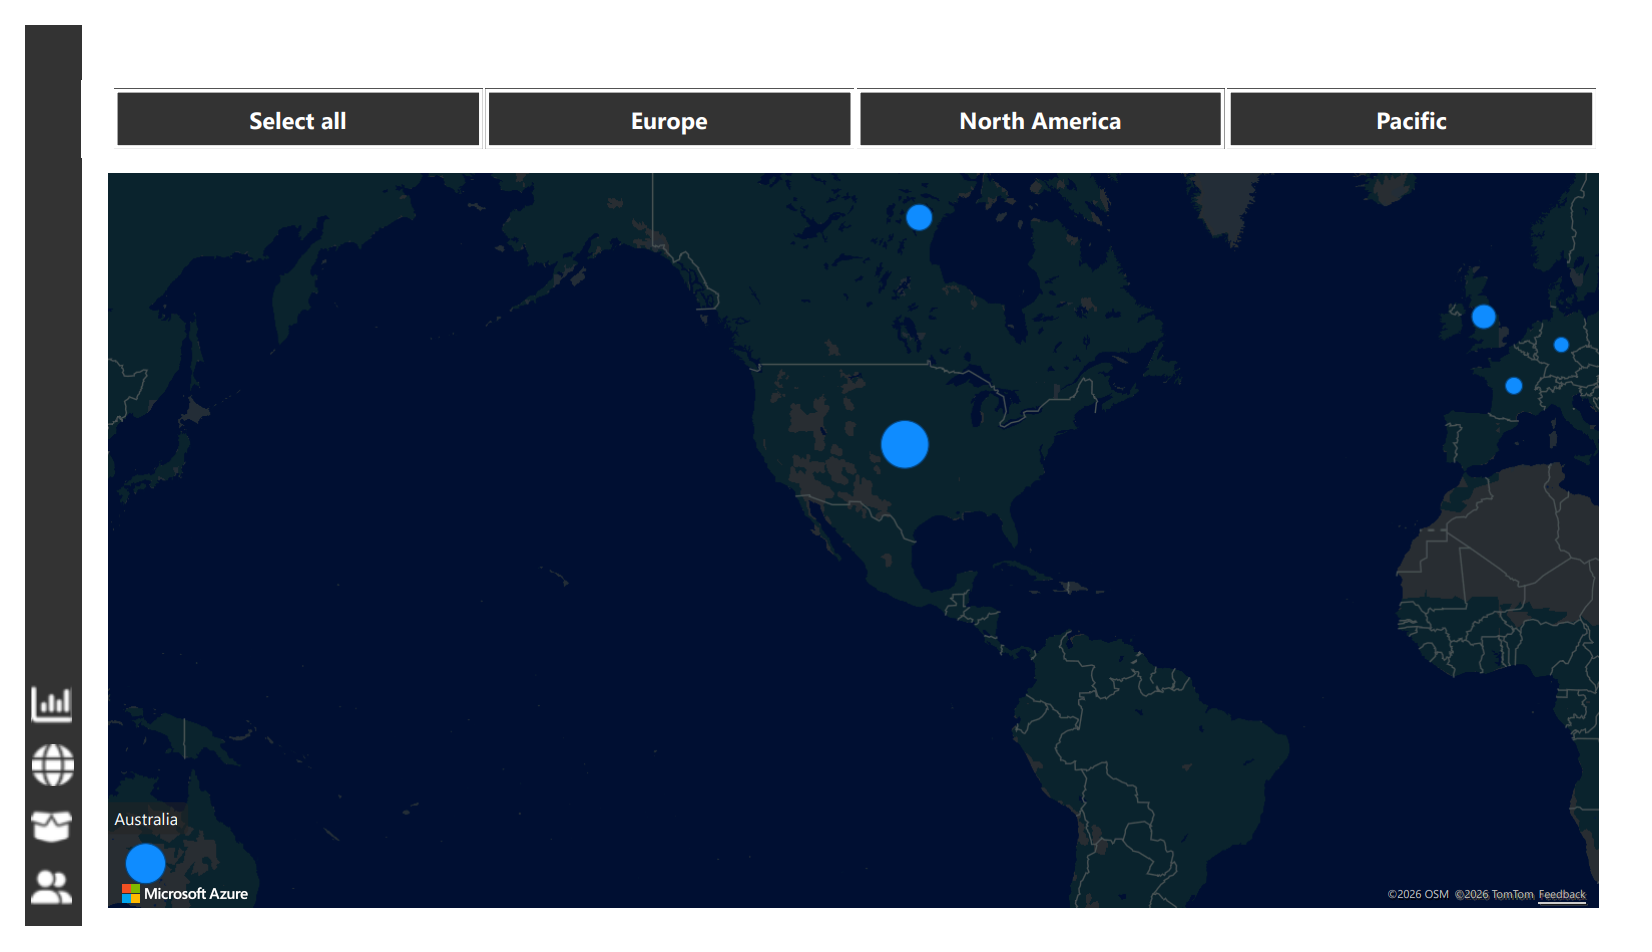

What the dashboard file says about the page in this screenshot:
{"tool":"powerbi","page":{"name":"Map","canvas":[1280,720],"ordinal":1},"visuals":[{"type":"shape","box":[0,0,45.3,719.8],"z":0},{"type":"actionButton","box":[0.9,523,45.7,40.3],"z":0,"group":"g1"},{"type":"azureMap","fields":{"Category":["Territory Lookup.Country"],"Size":["Measure Table.Total Orders"]},"box":[61.6,113.8,1201,595.9],"z":1000},{"type":"actionButton","box":[1.8,571.4,45.7,40.3],"z":1000,"group":"g1"},{"type":"slicer","fields":{"Values":["Territory Lookup.Continent"]},"box":[45.3,44.1,1234.7,61.6],"z":2000},{"type":"actionButton","box":[0.9,620.6,45.7,40.3],"z":2000,"group":"g1"},{"type":"group","id":"g1","title":"Navigation Buttons","box":[0.9,523,46.6,186.3],"z":3000},{"type":"actionButton","box":[0.9,669,45.7,40.3],"z":3000,"group":"g1"}]}

Visuals, with their boxes in screenshot pixels (x1, y1, x2, y2):
shape: [left=22, top=30, right=77, bottom=914]
actionButton: [left=23, top=672, right=79, bottom=722]
azureMap - Territory Lookup.Country x Measure Table.Total Orders: [left=97, top=170, right=1572, bottom=901]
actionButton: [left=24, top=732, right=80, bottom=781]
slicer - Territory Lookup.Continent: [left=77, top=84, right=1593, bottom=160]
actionButton: [left=23, top=792, right=79, bottom=841]
"Navigation Buttons" group: [left=23, top=672, right=80, bottom=901]
actionButton: [left=23, top=851, right=79, bottom=901]
